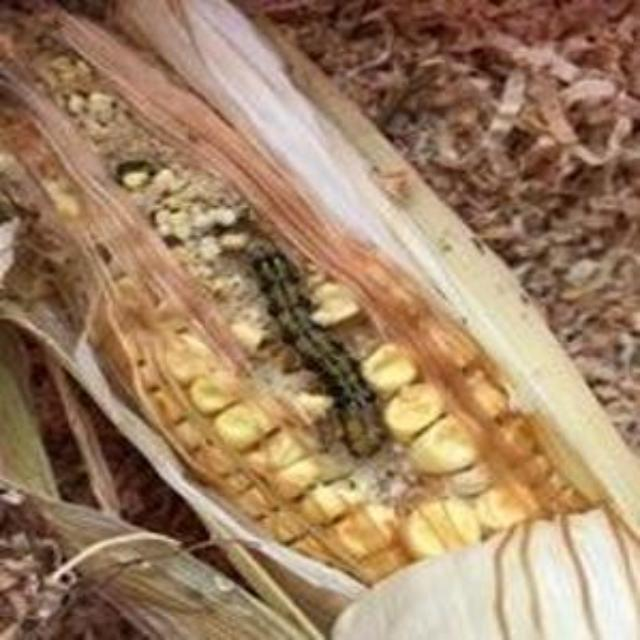Cotton bollworm: (232, 220, 406, 478)
